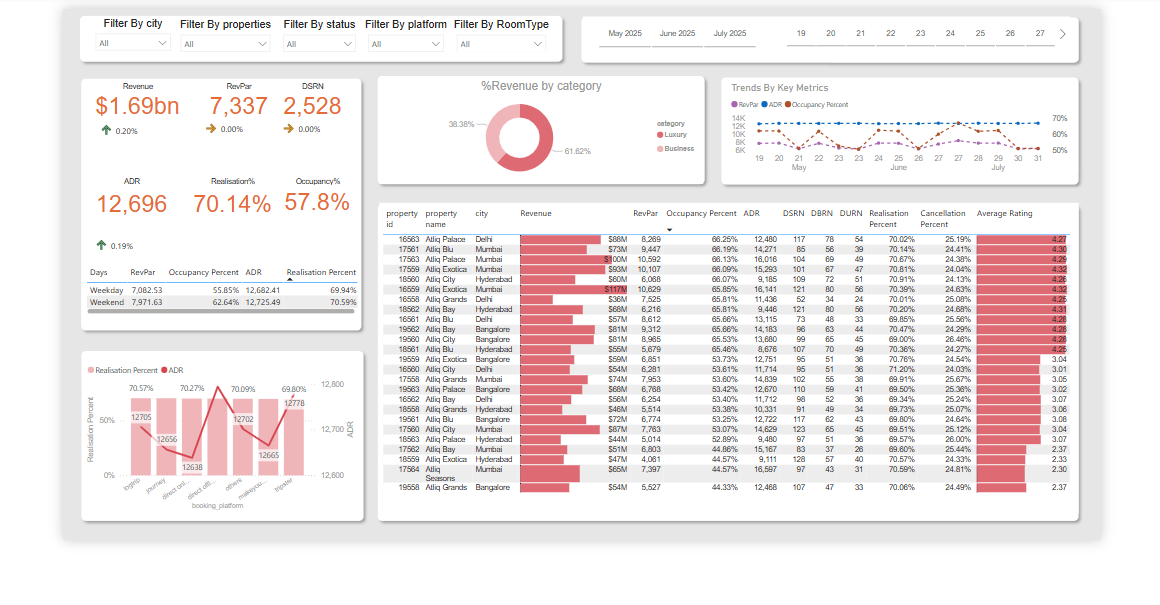

What the dashboard file says about the page in this screenshot:
{"tool":"powerbi","page":{"name":"Main Dashboard","canvas":[1660,850],"ordinal":0},"visuals":[{"type":"shape","box":[820,3.3,814.2,90.8],"z":0},{"type":"shape","box":[20,538.3,470,290],"z":1000},{"type":"shape","box":[494,304,1140,524],"z":2000},{"type":"shape","box":[1044,99,590,190],"z":3000},{"type":"shape","box":[494.3,98.6,541.4,191.4],"z":4000},{"type":"shape","box":[20,101.7,466.7,421.7],"z":5000},{"type":"shape","box":[17.5,2.5,790,91.2],"z":6000},{"type":"tableEx","fields":{"Values":["dim_hotels.property_id","dim_hotels.property_name","dim_hotels.city","key_measures.Revenue","key_measures.RevPar","key_measures.Occupancy Percent","key_measures.ADR","key_measures.DSRN","key_measures.DBRN","key_measures.DURN","key_measures.Realisation Percent","key_measures.Cancellation Percent"]},"box":[505.8,310,1119.2,496.7],"z":7000},{"type":"slicer","title":"Filter By city","fields":{"Values":["dim_hotels.city"]},"box":[42.5,12.5,140,55],"z":8000},{"type":"slicer","title":"Filter By properties","fields":{"Values":["dim_hotels.property_name"]},"box":[178.8,13.8,163.8,57.5],"z":9000},{"type":"slicer","title":"Filter By status","fields":{"Values":["fact_bookings.booking_status"]},"box":[342.5,13.8,136.2,57.5],"z":10000},{"type":"slicer","title":"Filter By platform","fields":{"Values":["fact_bookings.booking_platform"]},"box":[478.8,13.8,141.2,55],"z":11000},{"type":"slicer","title":"Filter By week","fields":{"Values":["dim_date.wn"]},"box":[1131.4,12.9,478.6,54.3],"z":12000},{"type":"slicer","title":"Filter By RoomType","fields":{"Values":["dim_rooms.room_class"]},"box":[620,13.8,162.5,53.8],"z":13000},{"type":"tableEx","title":"Revenue Wow","fields":{"Values":["key_measures.Revenue WoW change %"]},"box":[50,144.4,144.4,73.3],"z":14000},{"type":"donutChart","title":"%Revenue by category","fields":{"Y":["key_measures.Revenue"],"Category":["dim_hotels.category"]},"box":[505.9,111.2,518.2,167.6],"z":15000},{"type":"tableEx","title":"Revenue Wow","fields":{"Values":["key_measures.DSRN WoW change %"]},"box":[218.9,141.1,115.6,70],"z":16000},{"type":"card","title":"RevPar","fields":{"Values":["key_measures.RevPar"]},"box":[219.2,115,123.3,61.7],"z":17000},{"type":"card","title":"Revenue","fields":{"Values":["key_measures.Revenue"]},"box":[46.7,115,147.5,62.5],"z":18000},{"type":"tableEx","title":"Revenue Wow","fields":{"Values":["key_measures.DSRN WoW change %"]},"box":[342.2,141.1,115.6,70],"z":19000},{"type":"card","title":"DSRN","fields":{"Values":["key_measures.DSRN"]},"box":[342.5,115,115,62.5],"z":20000},{"type":"card","title":"Realisation%","fields":{"Values":["key_measures.Realisation Percent"]},"box":[194.4,268.9,155.6,71.1],"z":21000},{"type":"lineChart","title":"Trends By Key Metrics","fields":{"Category":["dim_date.date.Variation.Date Hierarchy.Month","dim_date.wn"],"Y":["key_measures.RevPar","key_measures.ADR"],"Y2":["key_measures.Occupancy Percent"]},"box":[1064.2,115,549.2,157.5],"z":22000},{"type":"lineClusteredColumnComboChart","fields":{"Category":["fact_bookings.booking_platform"],"Y":["key_measures.Realisation Percent"],"Y2":["key_measures.ADR"]},"box":[34.2,558.3,439.2,248.3],"z":23000},{"type":"tableEx","title":"Revenue Wow","fields":{"Values":["key_measures.ADR WoW change %"]},"box":[42.2,327.8,152.2,70],"z":24000},{"type":"card","title":"ADR","fields":{"Values":["key_measures.ADR"]},"box":[34.4,268.9,152.2,71.1],"z":25000},{"type":"card","title":"Occupancy%","fields":{"Values":["key_measures.Occupancy Percent"]},"box":[342.2,268.9,131.1,65.6],"z":26000},{"type":"tableEx","fields":{"Values":["dim_date.day_type","key_measures.RevPar","key_measures.Occupancy Percent","key_measures.ADR","key_measures.Realisation Percent"]},"box":[32.5,404.2,444.2,89.2],"z":27000},{"type":"slicer","fields":{"Values":["dim_date.mmm yy"]},"box":[831.4,12.9,300,55.7],"z":28000}]}

Visuals, with their boxes in screenshot pixels (x1, y1, x2, y2), scaled from the page's 1660x850 canvas onto the 1160x605 screenshot:
shape: [573,2,1142,67]
shape: [14,383,342,590]
shape: [345,216,1142,589]
shape: [730,70,1142,206]
shape: [345,70,724,206]
shape: [14,72,340,373]
shape: [12,2,564,67]
tableEx - dim_hotels.property_id x dim_hotels.property_name: [353,221,1136,574]
"Filter By city" slicer: [30,9,128,48]
"Filter By properties" slicer: [125,10,239,51]
"Filter By status" slicer: [239,10,335,51]
"Filter By platform" slicer: [335,10,433,49]
"Filter By week" slicer: [791,9,1125,48]
"Filter By RoomType" slicer: [433,10,547,48]
"Revenue Wow" tableEx: [35,103,136,155]
"%Revenue by category" donutChart: [354,79,716,198]
"Revenue Wow" tableEx: [153,100,234,150]
"RevPar" card: [153,82,239,126]
"Revenue" card: [33,82,136,126]
"Revenue Wow" tableEx: [239,100,320,150]
"DSRN" card: [239,82,320,126]
"Realisation%" card: [136,191,245,242]
"Trends By Key Metrics" lineChart: [744,82,1127,194]
lineClusteredColumnComboChart - fact_bookings.booking_platform x key_measures.Realisation Percent: [24,397,331,574]
"Revenue Wow" tableEx: [29,233,136,283]
"ADR" card: [24,191,130,242]
"Occupancy%" card: [239,191,331,238]
tableEx - dim_date.day_type x key_measures.RevPar: [23,288,333,351]
slicer - dim_date.mmm yy: [581,9,791,49]
